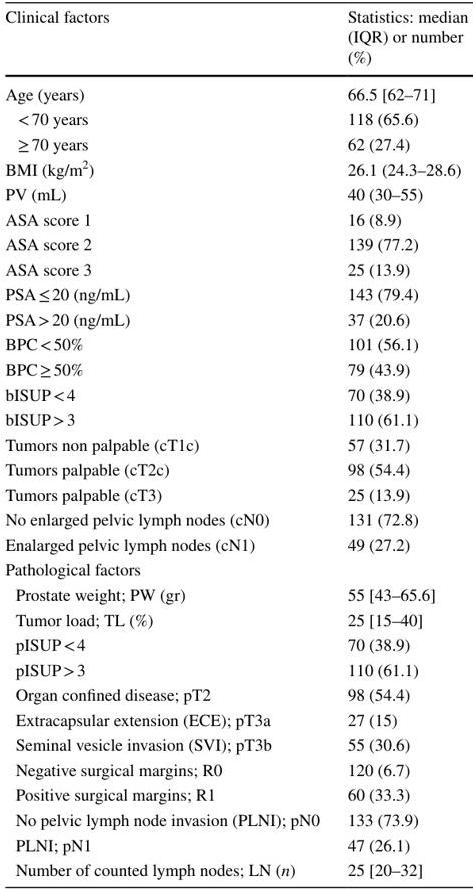table: (4, 4, 467, 883)
table column: (4, 4, 333, 883), (333, 4, 467, 883)
table column header: (4, 4, 467, 76)
table projected row header: (4, 557, 467, 582)
table row: (4, 4, 467, 76), (4, 76, 467, 107), (4, 156, 467, 182), (4, 582, 467, 608), (4, 107, 467, 132), (4, 182, 467, 207), (4, 207, 467, 232), (4, 232, 467, 257), (4, 257, 467, 282), (4, 282, 467, 307), (4, 307, 467, 332), (4, 332, 467, 357), (4, 357, 467, 382), (4, 382, 467, 407), (4, 407, 467, 432), (4, 432, 467, 457), (4, 457, 467, 482), (4, 482, 467, 507), (4, 507, 467, 532), (4, 532, 467, 557), (4, 557, 467, 582), (4, 608, 467, 633), (4, 633, 467, 658), (4, 658, 467, 683), (4, 683, 467, 708), (4, 708, 467, 733), (4, 733, 467, 758), (4, 758, 467, 783), (4, 783, 467, 808), (4, 808, 467, 833), (4, 833, 467, 858), (4, 858, 467, 883), (4, 132, 467, 156)
